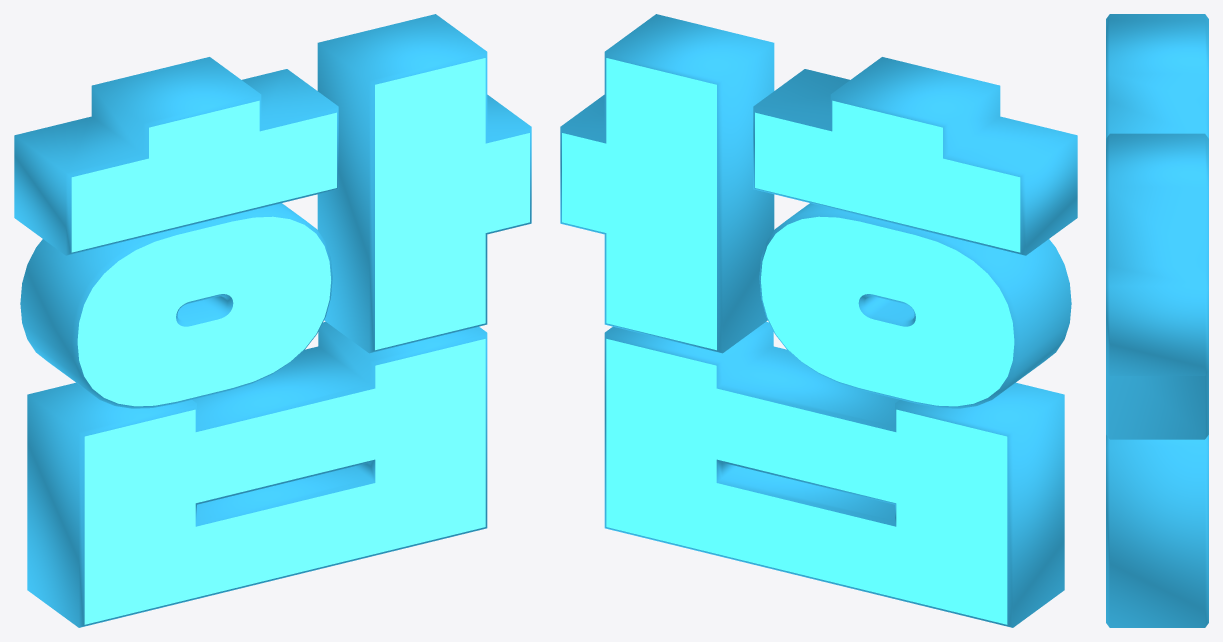
The picture shows the model from 3 angles, left to right: view 1: azimuth 30°, elevation 25°; view 2: azimuth 150°, elevation 25°; view 3: azimuth 270°, elevation 25°; orthographic projection. The views are drawn at different scales.
Parts seen in each view (by area): view 1: glyph; view 2: glyph; view 3: glyph.
Boxes of the visible parts, x1,y1,x2,y2 form: glyph: [14, 14, 531, 627]; glyph: [560, 14, 1077, 627]; glyph: [1106, 14, 1208, 627].
Bounding box in the file's own units: 0.0783 × 0.0786 × 0.0162.
